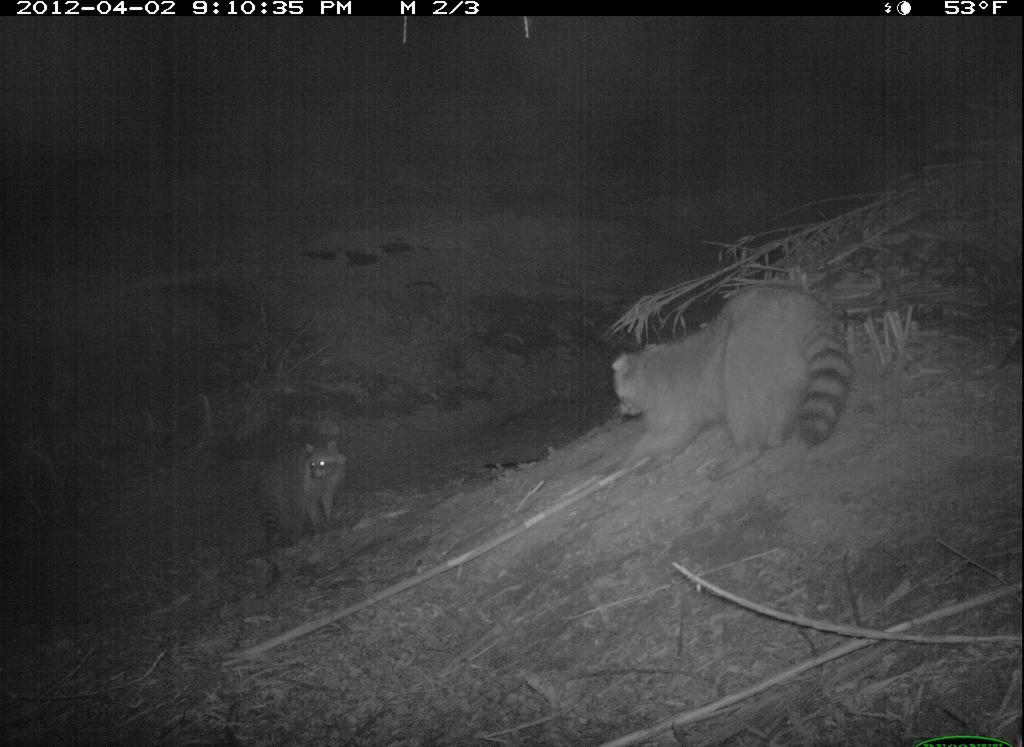raccoon: (601, 280, 862, 483), (242, 433, 367, 548)
